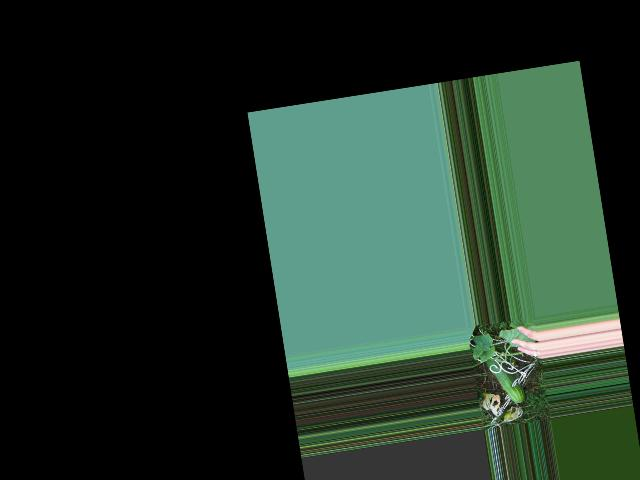cucumber: (485, 353, 526, 406)
